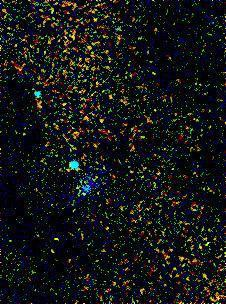star: (41, 226, 71, 256)
